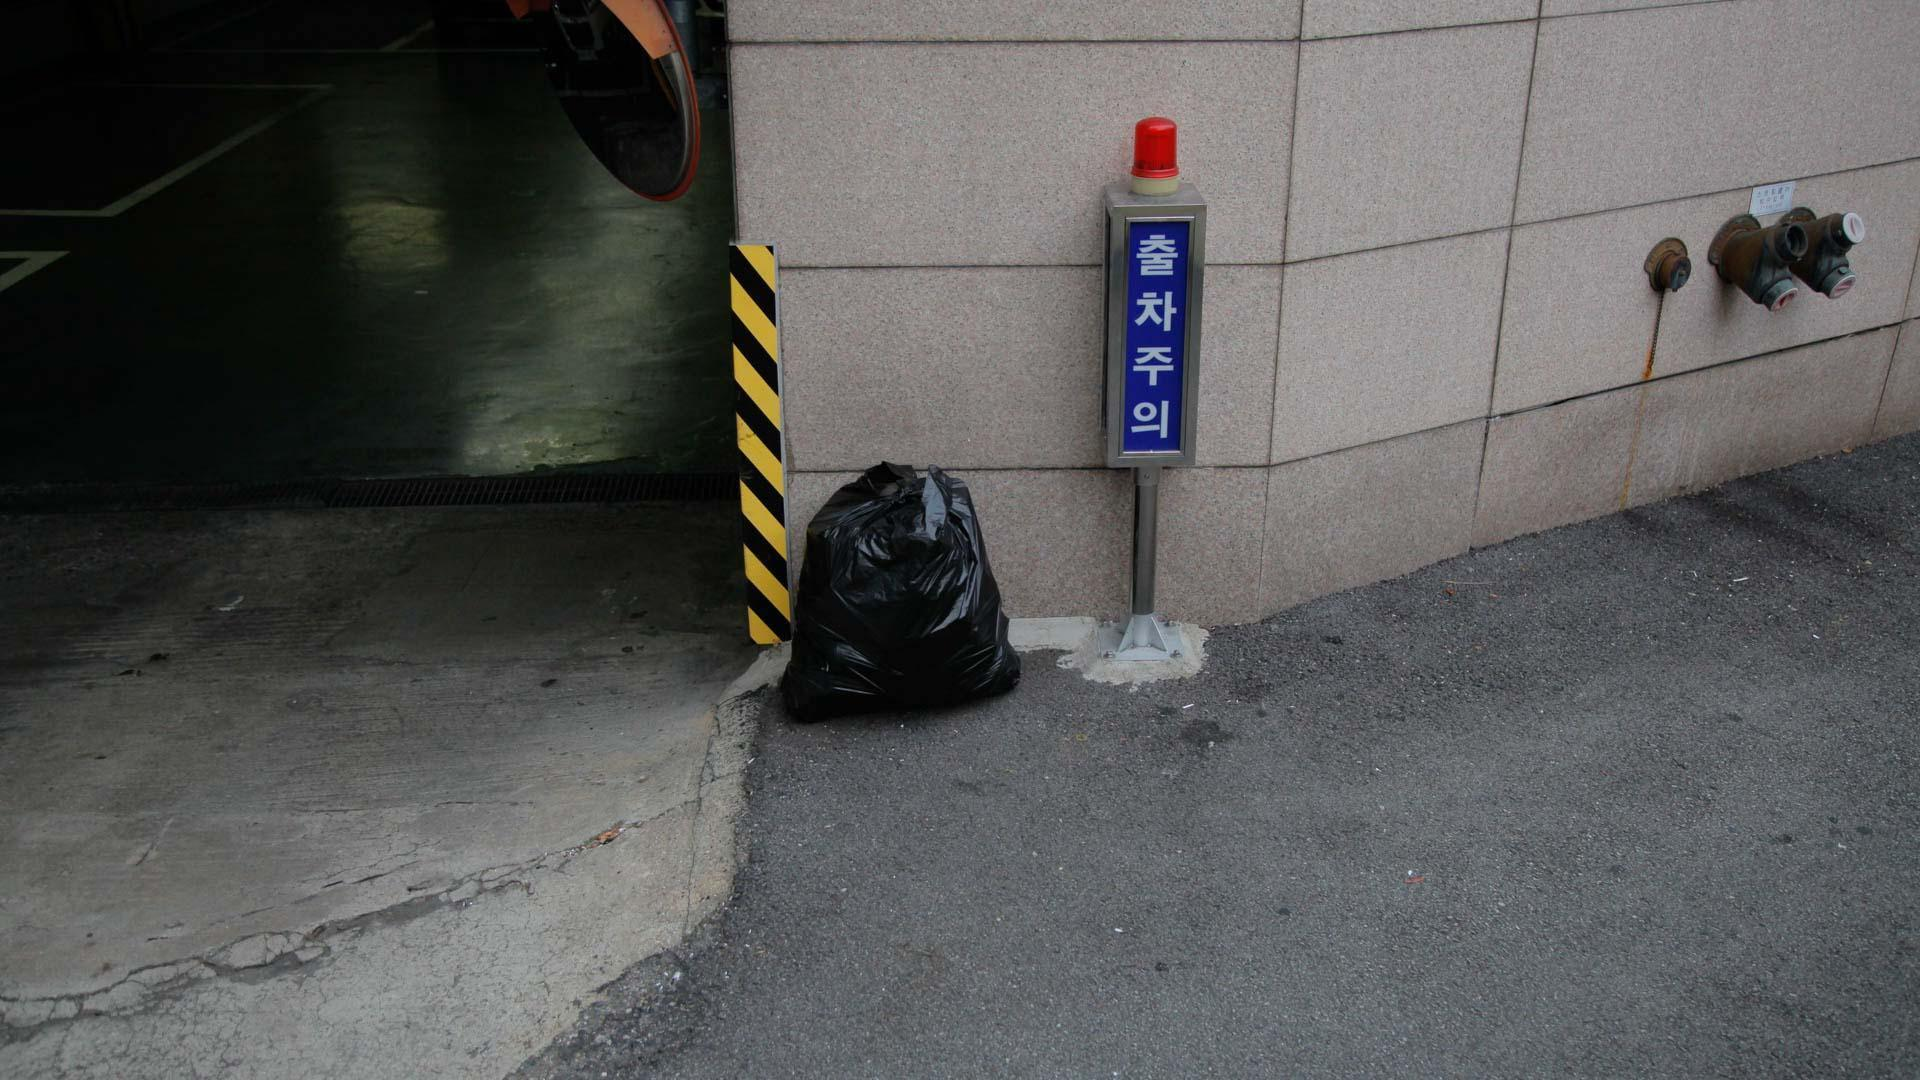black_bag: (773, 452, 1033, 727)
